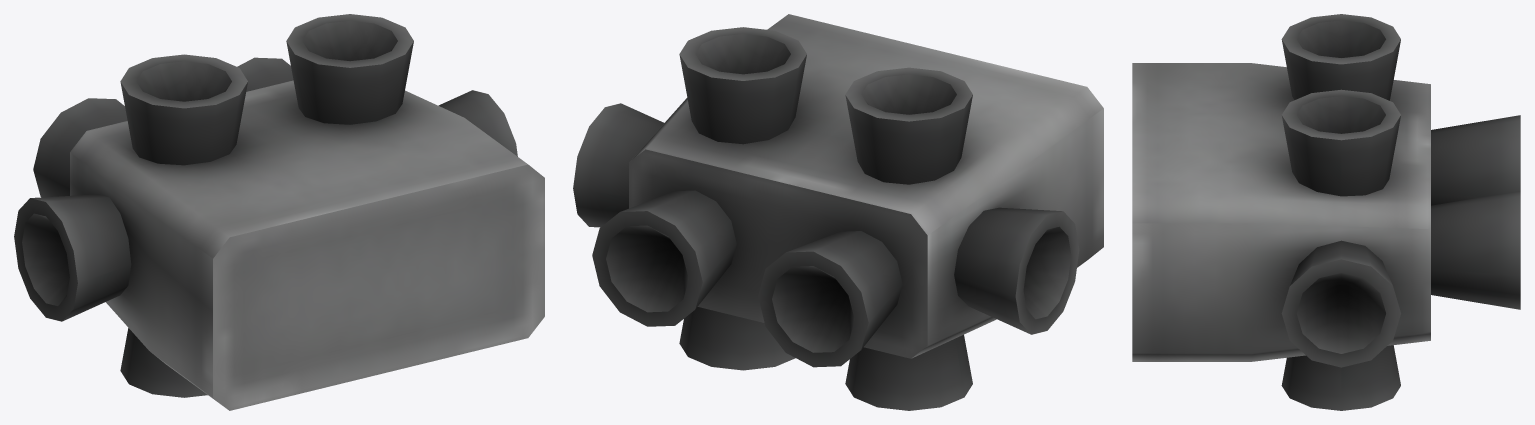
Rendered from octans_moe_srf_4_extended.obj.
3 renders of one model, left to right at view 1: azimuth 30°, elevation 25°; view 2: azimuth 150°, elevation 25°; view 3: azimuth 270°, elevation 25°, orthographic. The views are drawn at different scales.
Visible parts, largest first — view 1: mesh; view 2: mesh; view 3: mesh.
Part boxes in pixels (<box>): mesh: <box>14,14,544,410</box>; mesh: <box>573,14,1103,410</box>; mesh: <box>1132,14,1520,410</box>.
Bounding box in the file's own units: 0.2 × 0.125 × 0.1625.
1 material, 1 textured.
